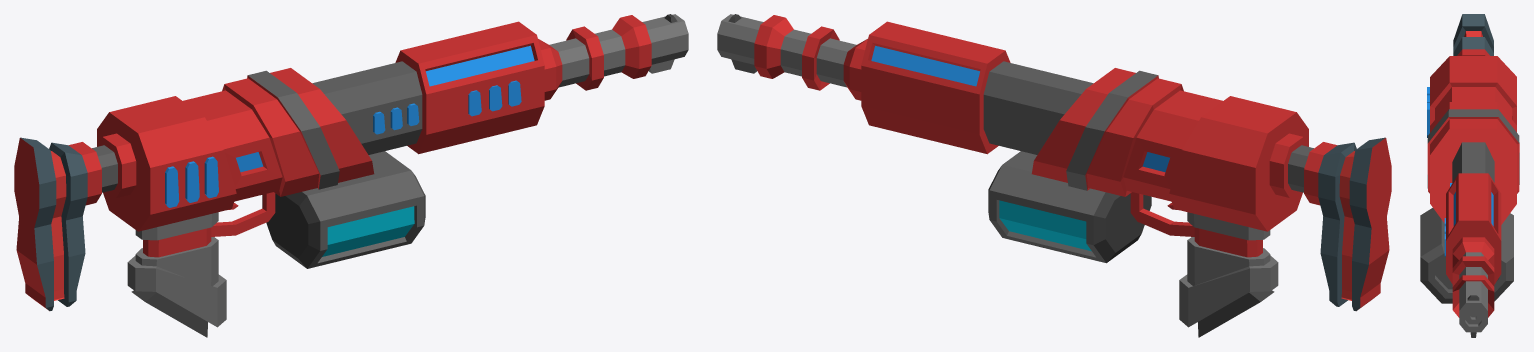
Rendered from Machine_Gun.fbx.
The picture shows the model from 3 angles, left to right: view 1: azimuth 30°, elevation 25°; view 2: azimuth 150°, elevation 25°; view 3: azimuth 270°, elevation 25°; orthographic projection. The views are drawn at different scales.
Visible parts, largest first — view 1: Machine_Gun; view 2: Machine_Gun; view 3: Machine_Gun.
Boxes of the visible parts, x1,y1,x2,y2 form: Machine_Gun: (14, 14, 688, 337); Machine_Gun: (717, 14, 1391, 337); Machine_Gun: (1420, 14, 1519, 337).
Bounding box in the file's own units: 222 × 75.62 × 35.65.
